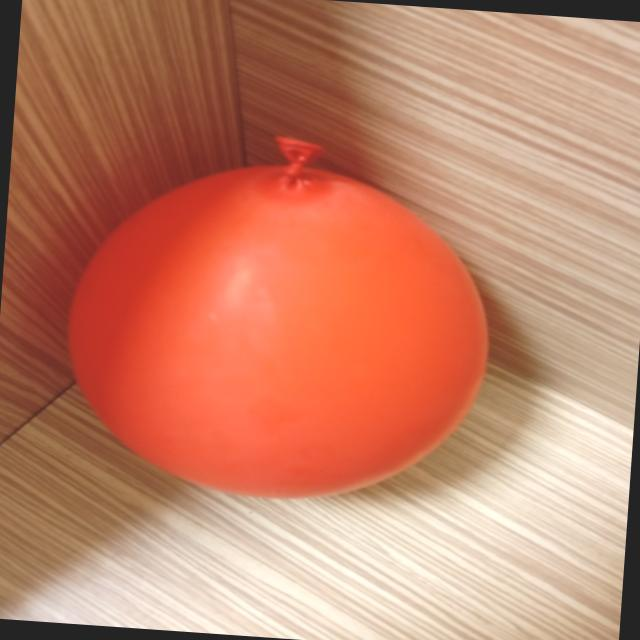balloon: (68, 137, 487, 497)
